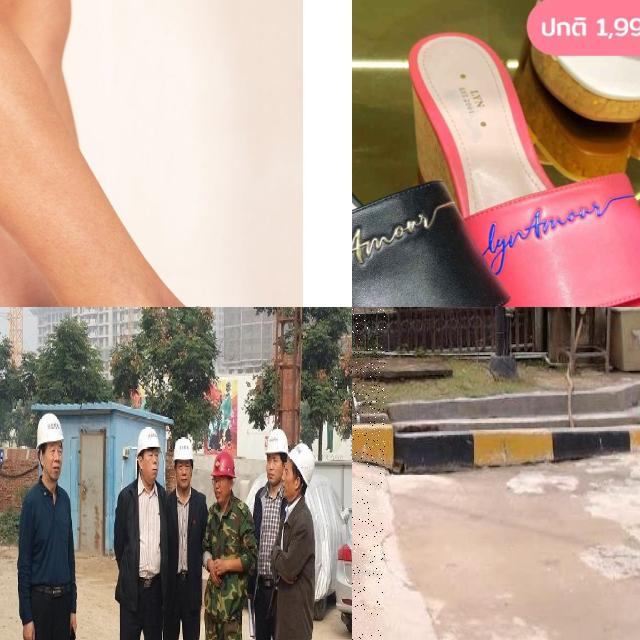No_Ear-Protection: (34, 410, 66, 481), (136, 423, 162, 491), (284, 446, 311, 505), (173, 437, 197, 495), (210, 452, 237, 503)
Sandals: (401, 0, 640, 307), (352, 9, 566, 307)
